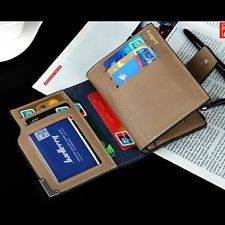monedero: (10, 23, 218, 198)
